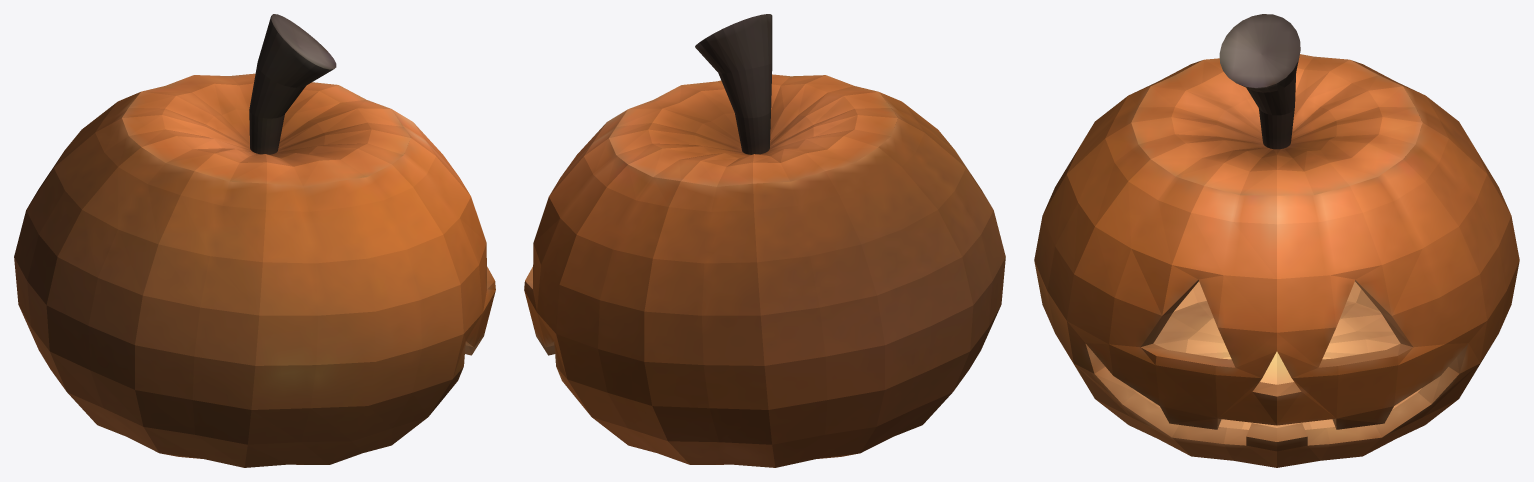
The model's file is PUMPKIN HEAD HAPPY.fbx.
The picture shows the model from 3 angles, left to right: view 1: azimuth 30°, elevation 25°; view 2: azimuth 150°, elevation 25°; view 3: azimuth 270°, elevation 25°; orthographic projection.
Parts seen in each view (by area): view 1: Pumpkinhead_low, PumkinCap_low; view 2: Pumpkinhead_low, PumkinCap_low; view 3: Pumpkinhead_low, PumkinCap_low.
Part boxes in pixels (x1,y1,x2,y2): Pumpkinhead_low: (14,74,495,467); PumkinCap_low: (122,14,410,186); Pumpkinhead_low: (524,75,1005,467); PumkinCap_low: (609,14,897,186); Pumpkinhead_low: (1034,56,1519,467); PumkinCap_low: (1131,14,1422,195).
Size of the model in its own units: 54.09 by 50.11 by 54.55.
